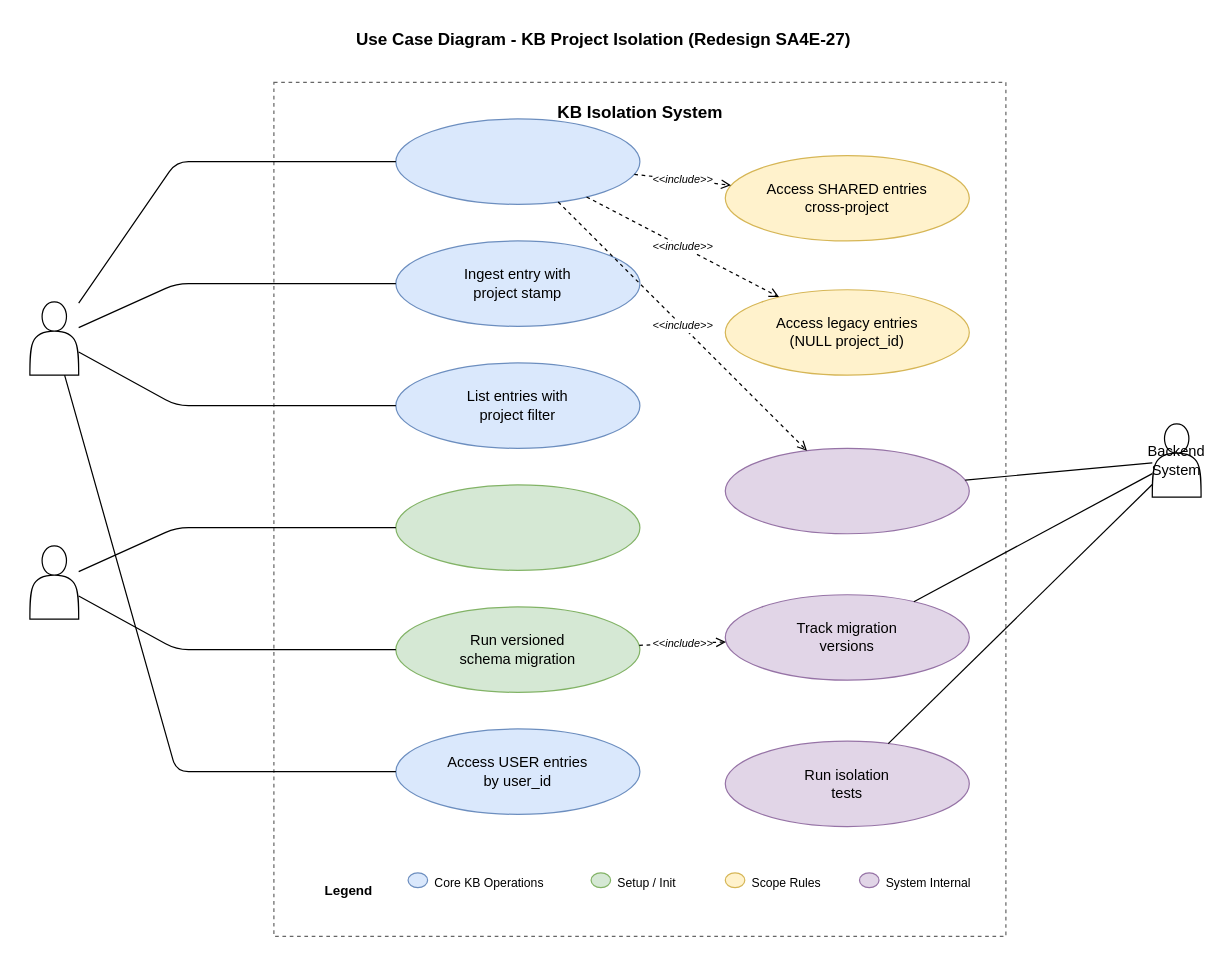
Image size: 1226x958. Some labels were removed from this diagram. The shapes that lost their labels are listed below. From the top down, each one's centre as x and y in pixels, then its label:
At (x=517, y=161): "Search KB with project isolation".
At (x=54, y=338): "Developer".
At (x=846, y=490): "Enforce scope filtering centrally".
At (x=517, y=527): "Derive project context from workspace".
At (x=54, y=582): "IDE Extension".
